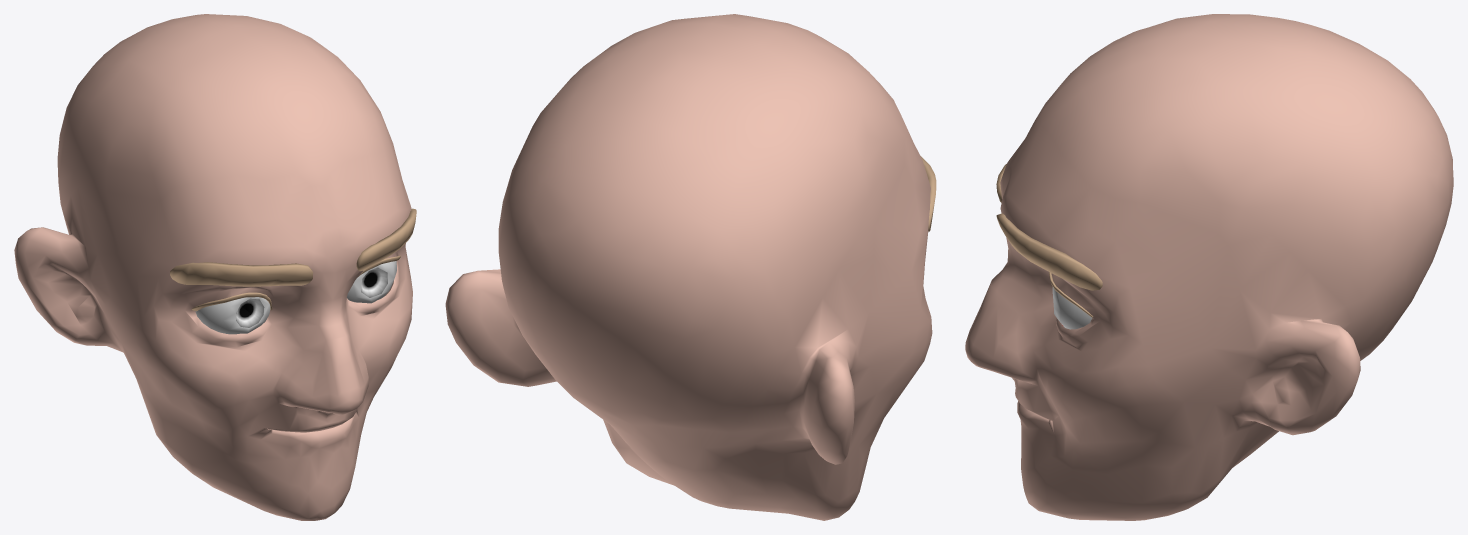
3 views of the same model, side by side, from view 1: azimuth 30°, elevation 25°; view 2: azimuth 150°, elevation 25°; view 3: azimuth 270°, elevation 25° (orthographic). The views are drawn at different scales.
Visible parts, largest first — view 1: skin.001, brows.001, eyes.001, lashes.001; view 2: skin.001; view 3: skin.001, brows.001, eyes.001.
Boxes of the visible parts, x1,y1,x2,y2 form: skin.001: [14, 14, 412, 520]; brows.001: [170, 208, 416, 286]; eyes.001: [195, 261, 396, 334]; lashes.001: [191, 255, 400, 311]; skin.001: [445, 14, 932, 520]; skin.001: [965, 14, 1453, 520]; brows.001: [996, 164, 1102, 290]; eyes.001: [1052, 287, 1092, 329].
Bounding box in the file's own units: 1.65 × 2 × 1.88.
9 materials, 1 textured.
